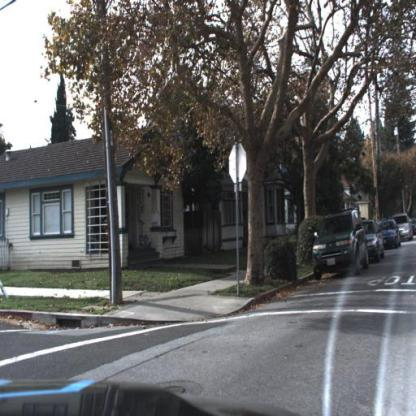car: (312, 208, 370, 279), (366, 219, 387, 269), (381, 219, 403, 250), (400, 214, 412, 243)
